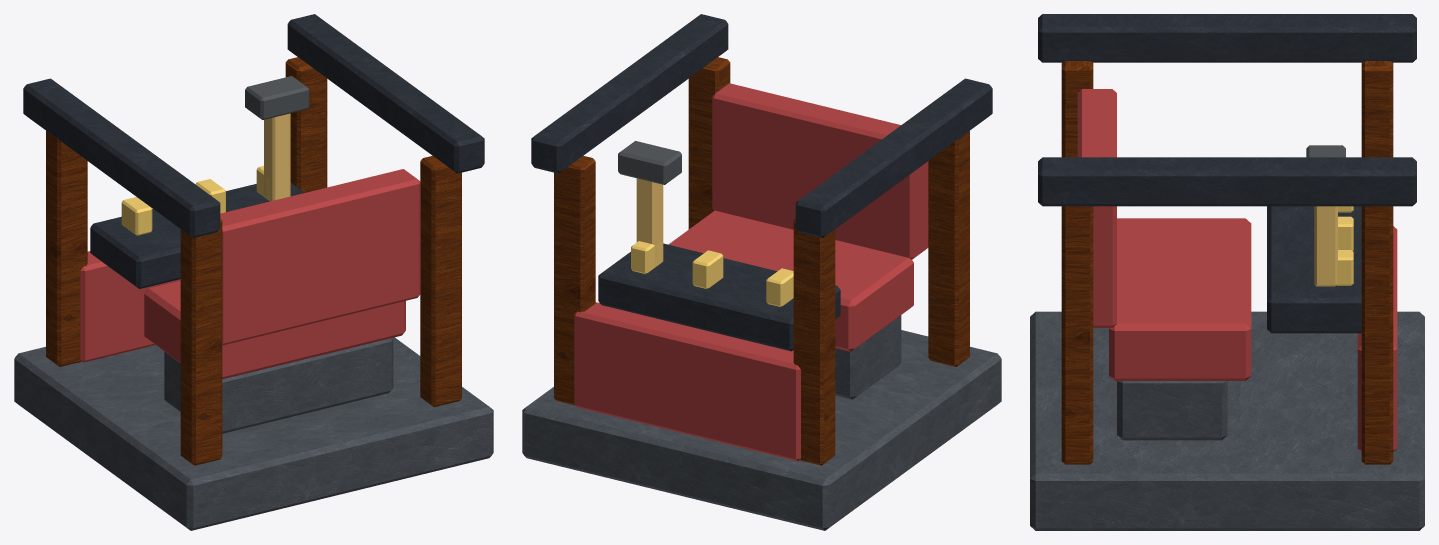
File: train_cab.gltf
3 renders of one model, left to right at view 1: azimuth 30°, elevation 25°; view 2: azimuth 150°, elevation 25°; view 3: azimuth 270°, elevation 25°, orthographic. The views are drawn at different scales.
Bounding box in the file's own units: 1 × 1 × 1.
7 materials, 3 textured.
